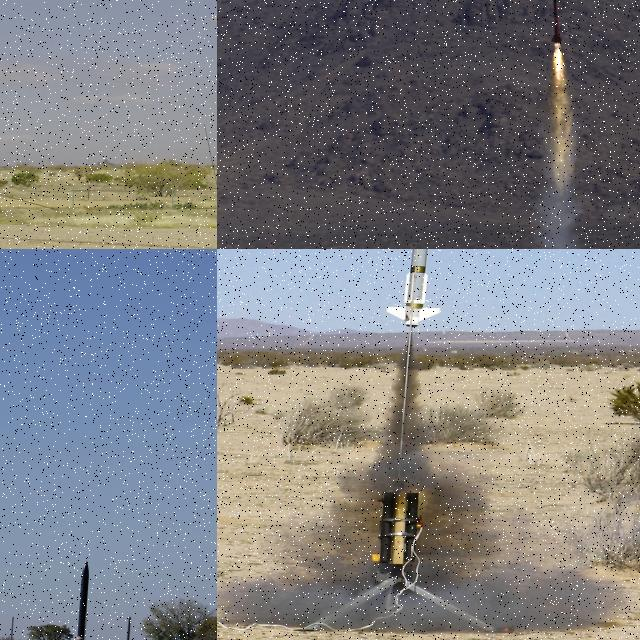Rocket: (385, 249, 442, 328), (77, 560, 89, 640), (550, 0, 562, 43)
